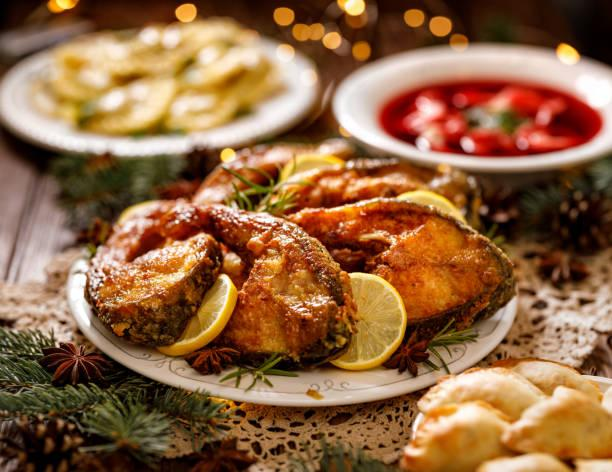Braised Crucian Carp: (70, 140, 510, 406)
